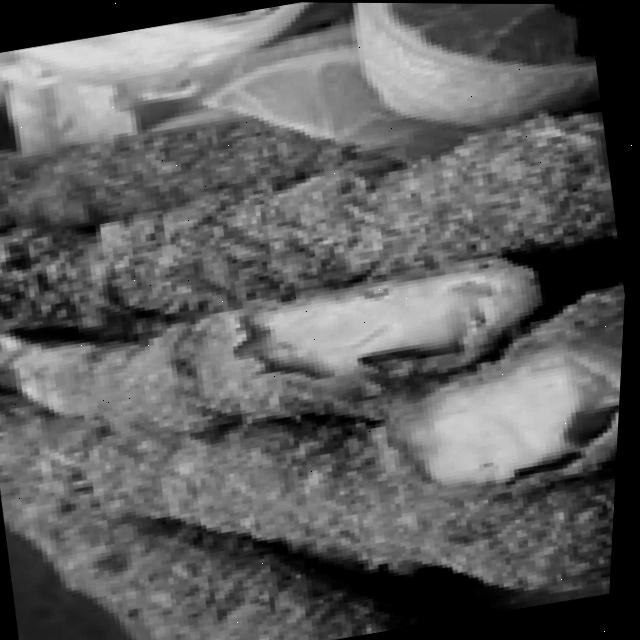炸货点心: (0, 41, 638, 640)
熟制海鲜: (0, 41, 638, 640)
